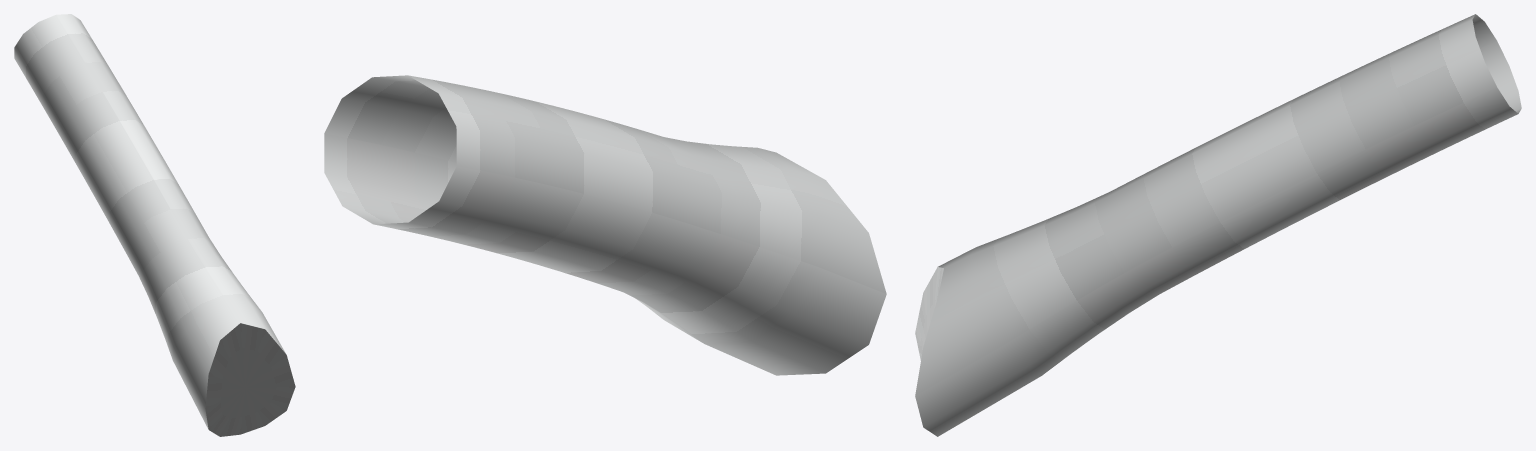
File: luminairearm_caltrans15ft_c0_thin.obj
The picture shows the model from 3 angles, left to right: view 1: azimuth 30°, elevation 25°; view 2: azimuth 150°, elevation 25°; view 3: azimuth 270°, elevation 25°; orthographic projection. The views are drawn at different scales.
Parts seen in each view (by area): view 1: luminairearm_caltrans15ft_c0_thin; view 2: luminairearm_caltrans15ft_c0_thin; view 3: luminairearm_caltrans15ft_c0_thin.
Boxes of the visible parts, x1,y1,x2,y2 form: luminairearm_caltrans15ft_c0_thin: (14, 14, 295, 436); luminairearm_caltrans15ft_c0_thin: (324, 75, 886, 375); luminairearm_caltrans15ft_c0_thin: (915, 14, 1521, 436).
Size of the model in its own units: 0.3375 by 1.02 by 1.37.
